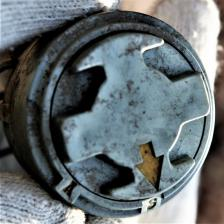M14: (18, 14, 202, 208)
